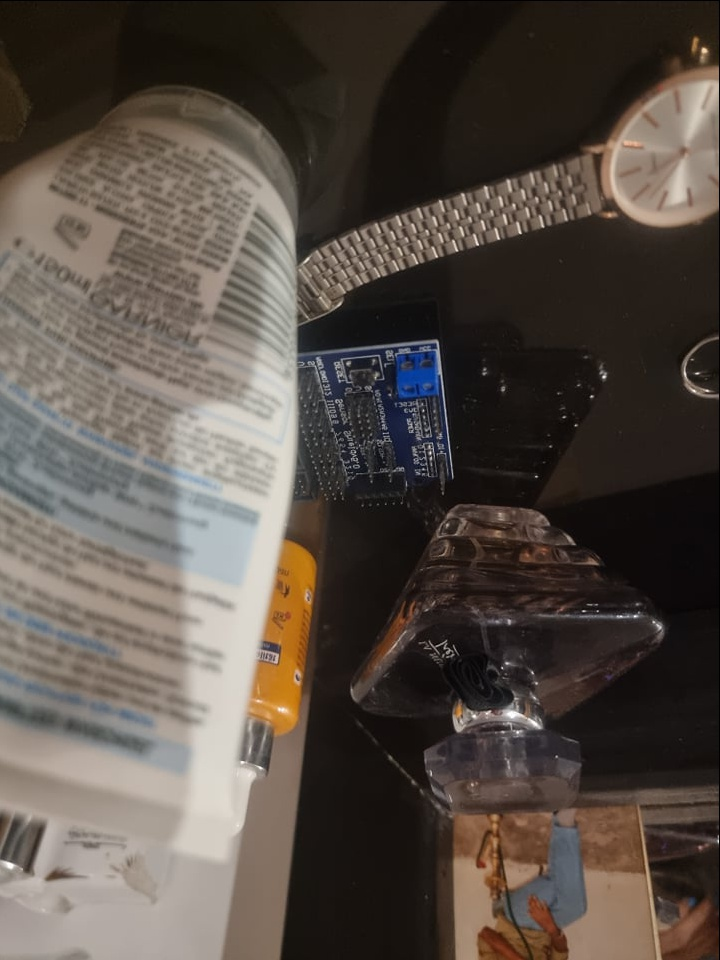5V EXPANSION: (290, 333, 458, 510)
